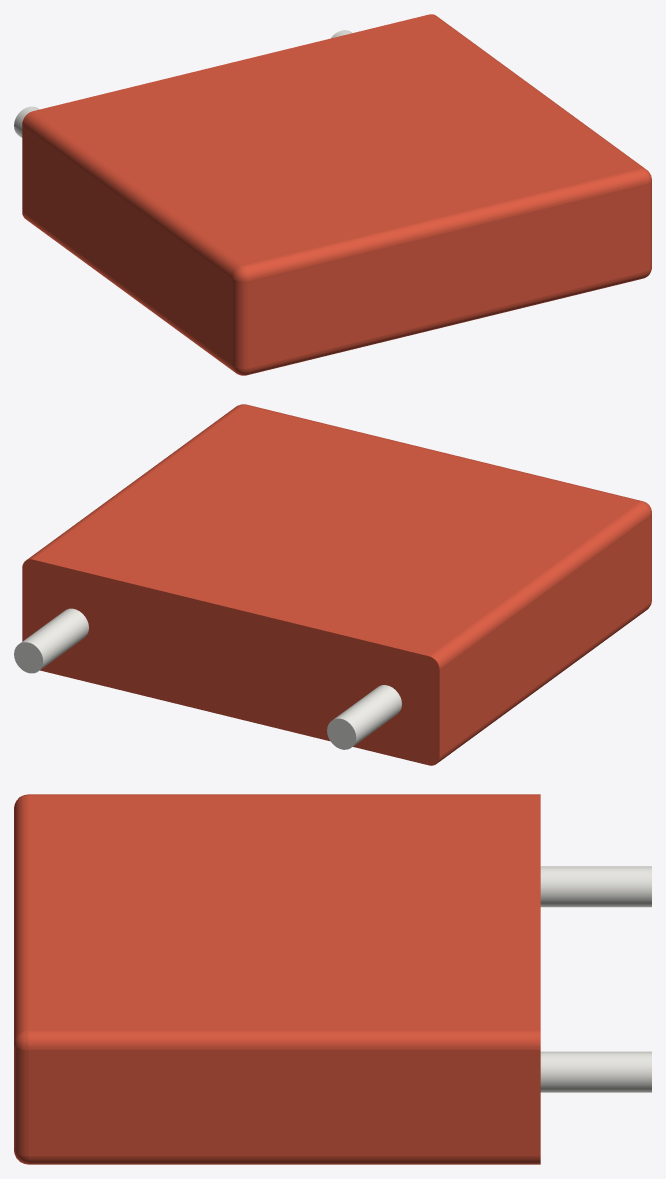
The model's file is C_Rect_L10.0mm_W2.5mm_P7.50mm_MKS4.glb.
3 views of the same model, one above another, from view 1: azimuth 30°, elevation 25°; view 2: azimuth 150°, elevation 25°; view 3: azimuth 270°, elevation 25° (orthographic). The views are drawn at different scales.
Visible parts, largest first — view 1: Shape_IndexedFaceSet.009, Shape_IndexedFaceSet.007, Shape_IndexedFaceSet, Shape_IndexedFaceSet.017, Shape_IndexedFaceSet.004, Shape_IndexedFaceSet.015, Shape_IndexedFaceSet.002, Shape_IndexedFaceSet.001, Shape_IndexedFaceSet.011, Shape_IndexedFaceSet.016; view 2: Shape_IndexedFaceSet.009, Shape_IndexedFaceSet.003, Shape_IndexedFaceSet, Shape_IndexedFaceSet.004, Shape_IndexedFaceSet.014, Shape_IndexedFaceSet.013, Shape_IndexedFaceSet.001, Shape_IndexedFaceSet.011, Shape_IndexedFaceSet.017, Shape_IndexedFaceSet.020, Shape_IndexedFaceSet.021; view 3: Shape_IndexedFaceSet.009, Shape_IndexedFaceSet.012, Shape_IndexedFaceSet.011, Shape_IndexedFaceSet.013, Shape_IndexedFaceSet.014, Shape_IndexedFaceSet.010, Shape_IndexedFaceSet.017, Shape_IndexedFaceSet.016, Shape_IndexedFaceSet.004.
Boxes of the visible parts, x1=… form: Shape_IndexedFaceSet.009: x1=33, y1=14, x2=639, y2=265; Shape_IndexedFaceSet.007: x1=249, y1=184, x2=645, y2=368; Shape_IndexedFaceSet: x1=22, y1=125, x2=232, y2=365; Shape_IndexedFaceSet.017: x1=244, y1=169, x2=645, y2=280; Shape_IndexedFaceSet.004: x1=22, y1=111, x2=242, y2=278; Shape_IndexedFaceSet.015: x1=247, y1=271, x2=645, y2=375; Shape_IndexedFaceSet.002: x1=233, y1=279, x2=249, y2=368; Shape_IndexedFaceSet.001: x1=22, y1=212, x2=235, y2=372; Shape_IndexedFaceSet.011: x1=429, y1=14, x2=645, y2=169; Shape_IndexedFaceSet.016: x1=646, y1=180, x2=651, y2=271; Shape_IndexedFaceSet.009: x1=33, y1=405, x2=639, y2=655; Shape_IndexedFaceSet.003: x1=22, y1=559, x2=439, y2=765; Shape_IndexedFaceSet: x1=439, y1=516, x2=650, y2=756; Shape_IndexedFaceSet.004: x1=429, y1=502, x2=650, y2=669; Shape_IndexedFaceSet.014: x1=21, y1=608, x2=88, y2=669; Shape_IndexedFaceSet.013: x1=333, y1=685, x2=401, y2=746; Shape_IndexedFaceSet.001: x1=438, y1=603, x2=650, y2=762; Shape_IndexedFaceSet.011: x1=27, y1=405, x2=242, y2=559; Shape_IndexedFaceSet.017: x1=244, y1=404, x2=642, y2=501; Shape_IndexedFaceSet.020: x1=327, y1=718, x2=356, y2=749; Shape_IndexedFaceSet.021: x1=14, y1=642, x2=43, y2=673; Shape_IndexedFaceSet.009: x1=28, y1=795, x2=540, y2=1030; Shape_IndexedFaceSet.012: x1=28, y1=1050, x2=540, y2=1156; Shape_IndexedFaceSet.011: x1=28, y1=1030, x2=540, y2=1049; Shape_IndexedFaceSet.013: x1=540, y1=866, x2=651, y2=907; Shape_IndexedFaceSet.014: x1=540, y1=1051, x2=651, y2=1092; Shape_IndexedFaceSet.010: x1=28, y1=1156, x2=540, y2=1164; Shape_IndexedFaceSet.017: x1=14, y1=795, x2=28, y2=1041; Shape_IndexedFaceSet.016: x1=14, y1=1045, x2=28, y2=1156; Shape_IndexedFaceSet.004: x1=28, y1=794, x2=540, y2=795.
Bounding box in the file's own units: 3.94 × 0.9841 × 4.29.
